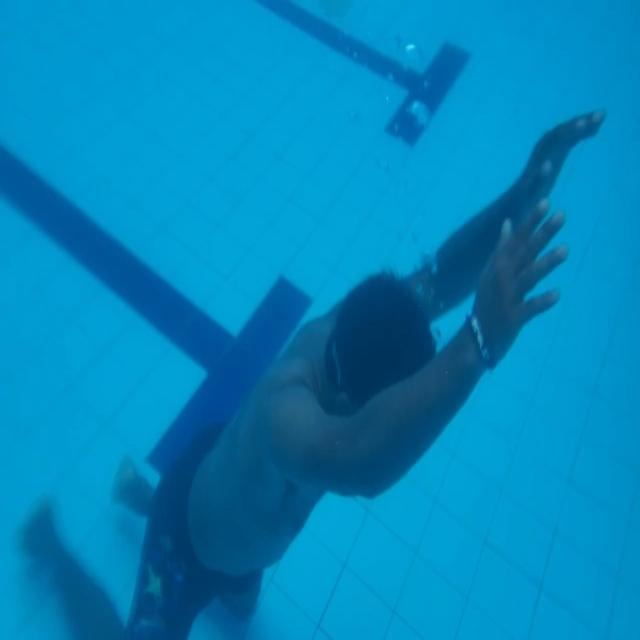Drowning: (17, 101, 607, 638)
